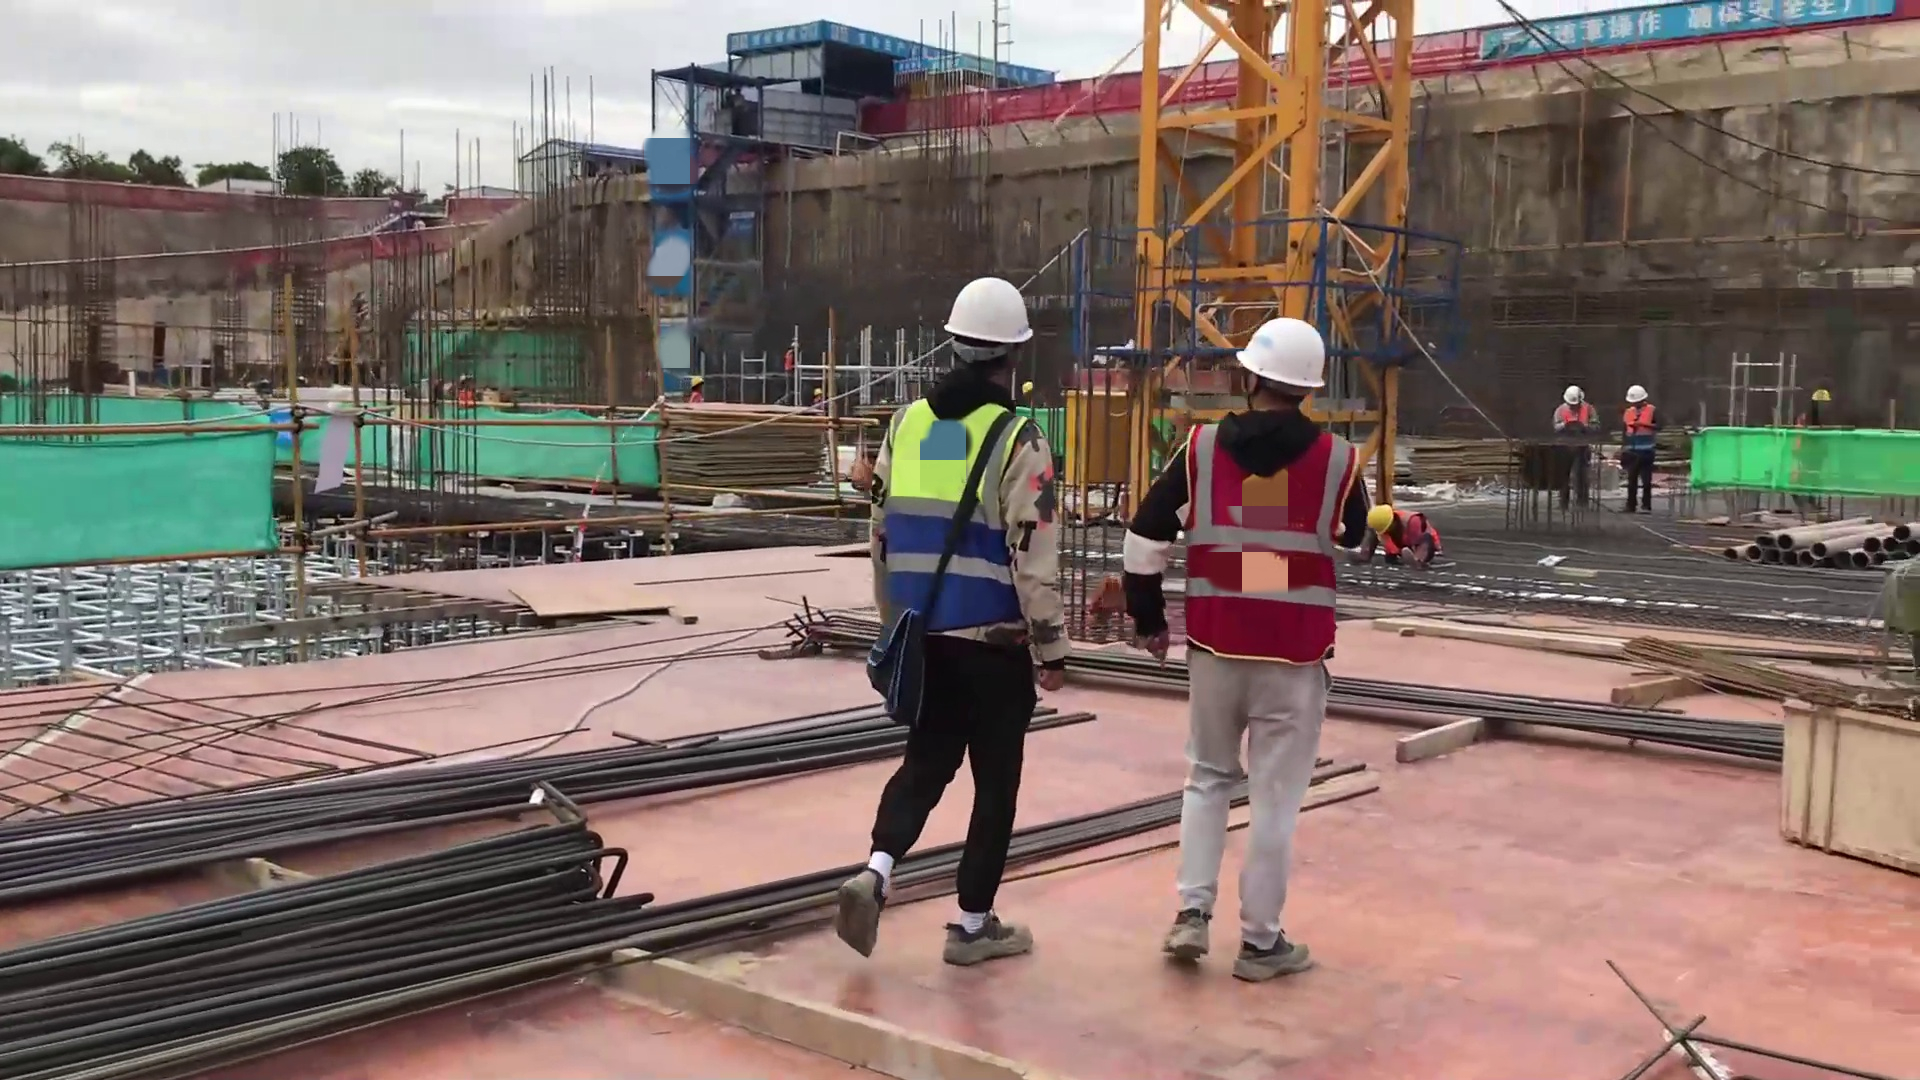helmet: (1237, 318, 1327, 389), (944, 276, 1035, 344), (1367, 504, 1394, 536), (1625, 385, 1648, 403), (1563, 386, 1584, 405), (691, 376, 704, 389)
person: (1121, 317, 1375, 978), (832, 271, 1066, 968), (1551, 384, 1599, 512), (1364, 503, 1444, 566), (1619, 384, 1658, 515), (689, 376, 704, 403)
vest: (1184, 421, 1358, 665), (883, 399, 1018, 638), (1382, 511, 1443, 562), (1623, 405, 1655, 455), (1562, 402, 1588, 446)
